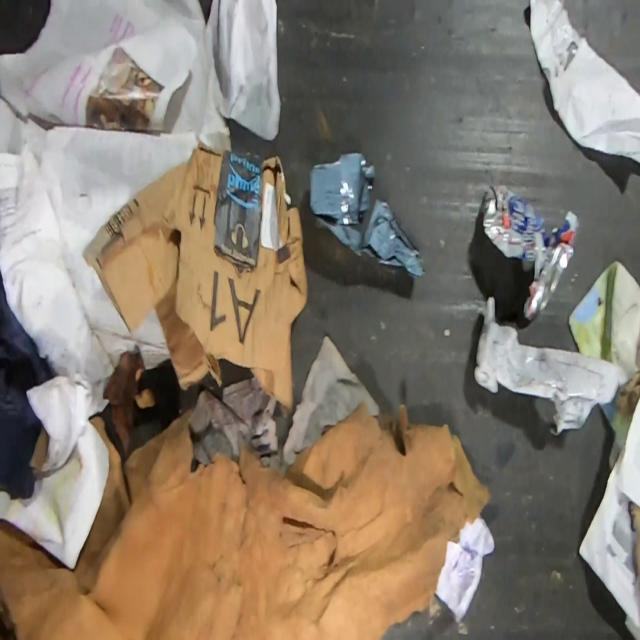cardboard: (0, 397, 489, 640), (81, 143, 308, 408), (628, 502, 640, 586)
metal: (481, 183, 580, 327)
soft_plastic: (309, 153, 426, 278)
